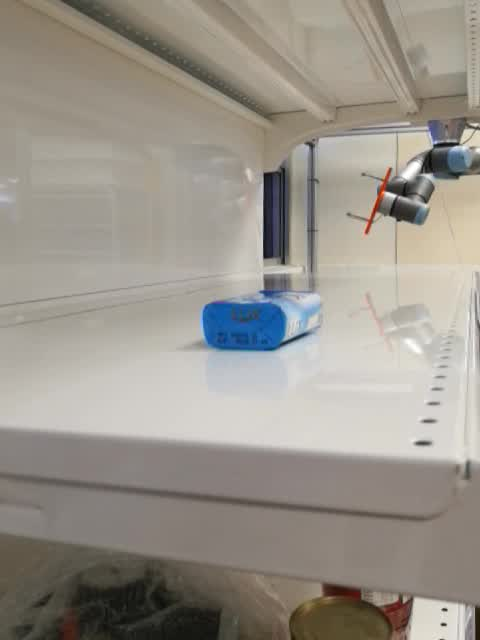soap: (201, 288, 324, 352)
